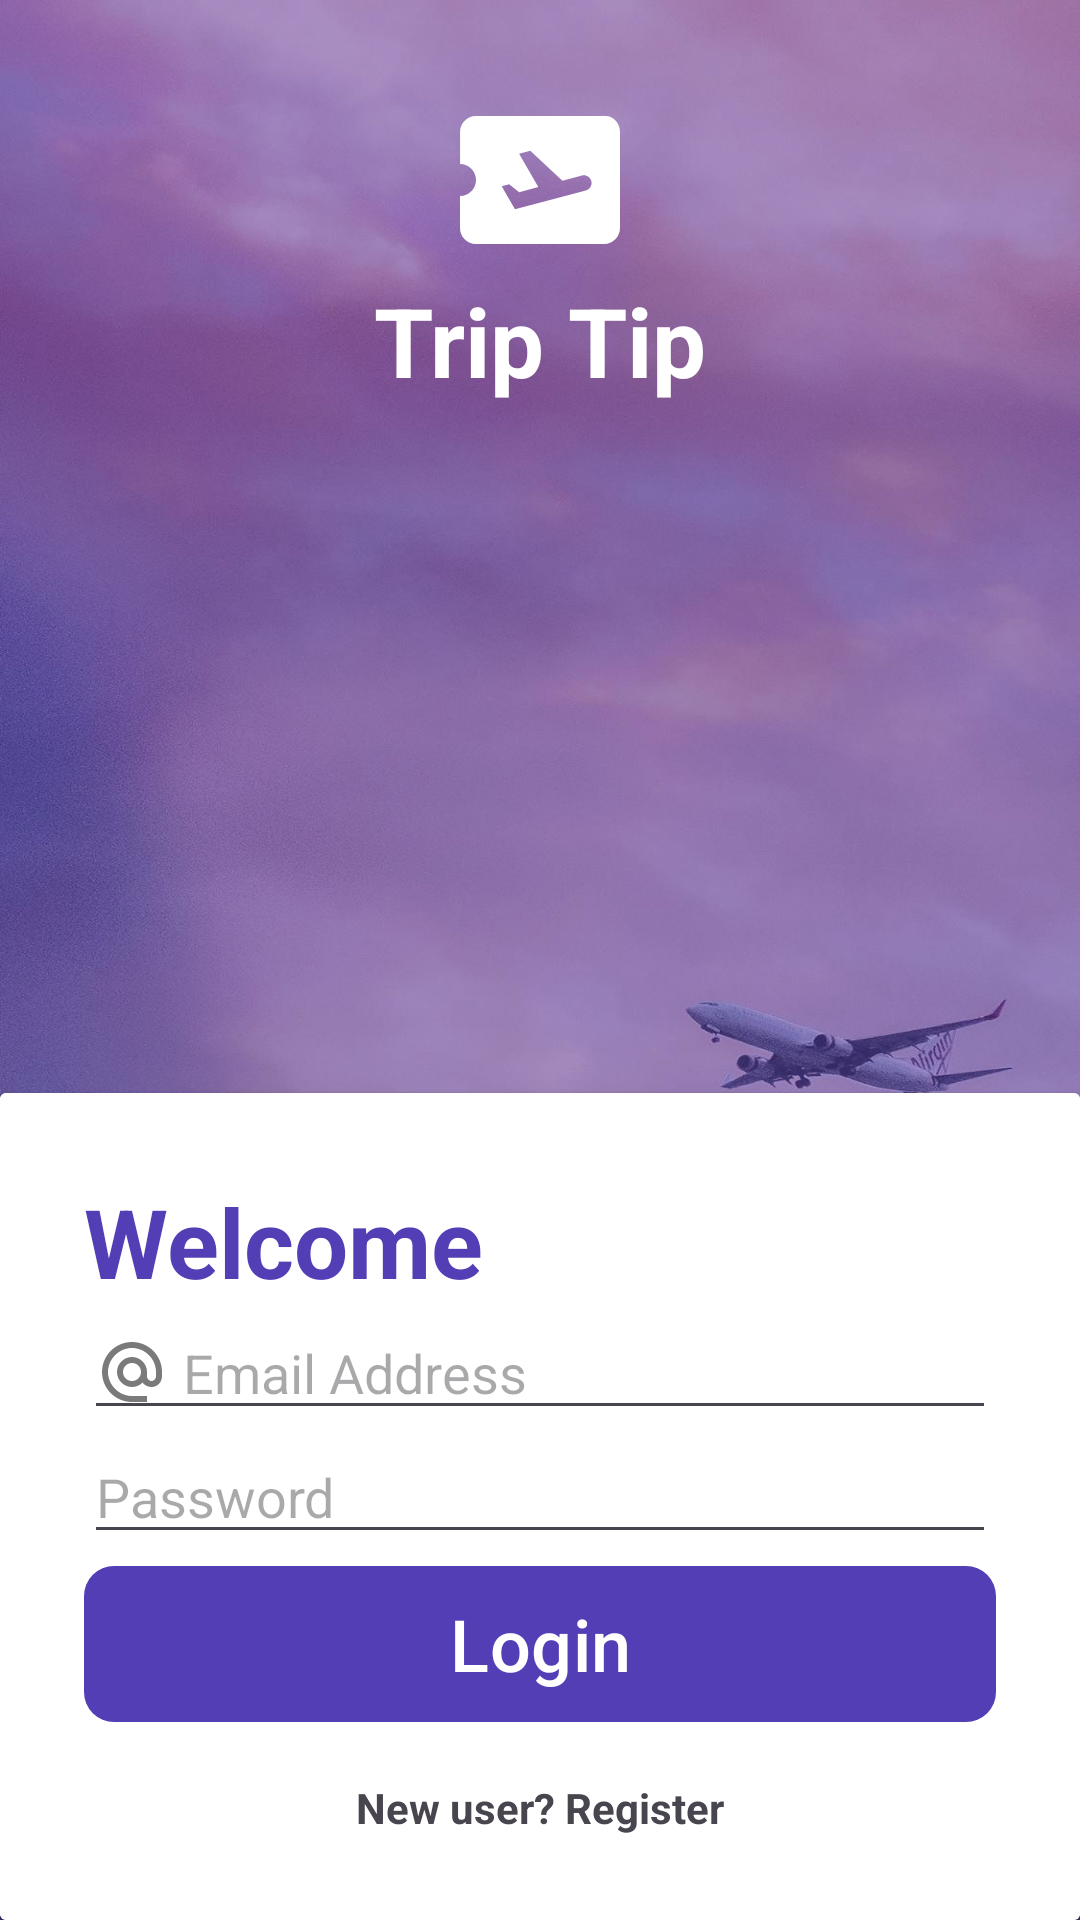

Point at icon controls on the screen. Image size 1080px×1920px, points as (x,y).
plane: (540,196)
